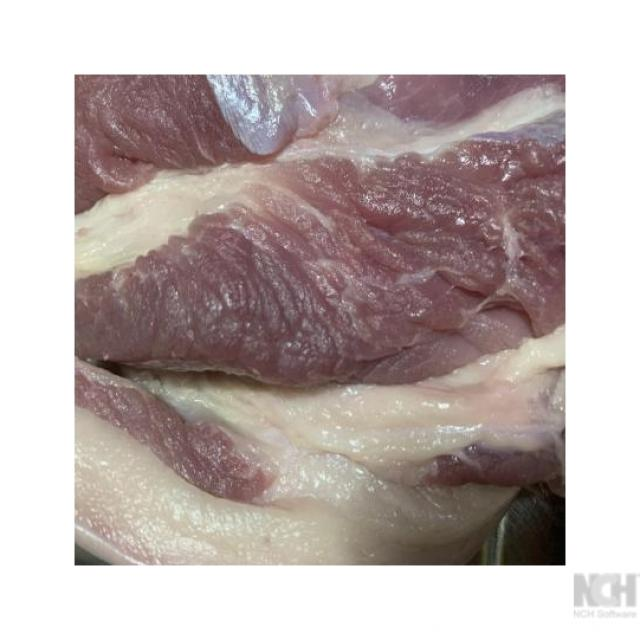rotten meat: (49, 55, 592, 572)
